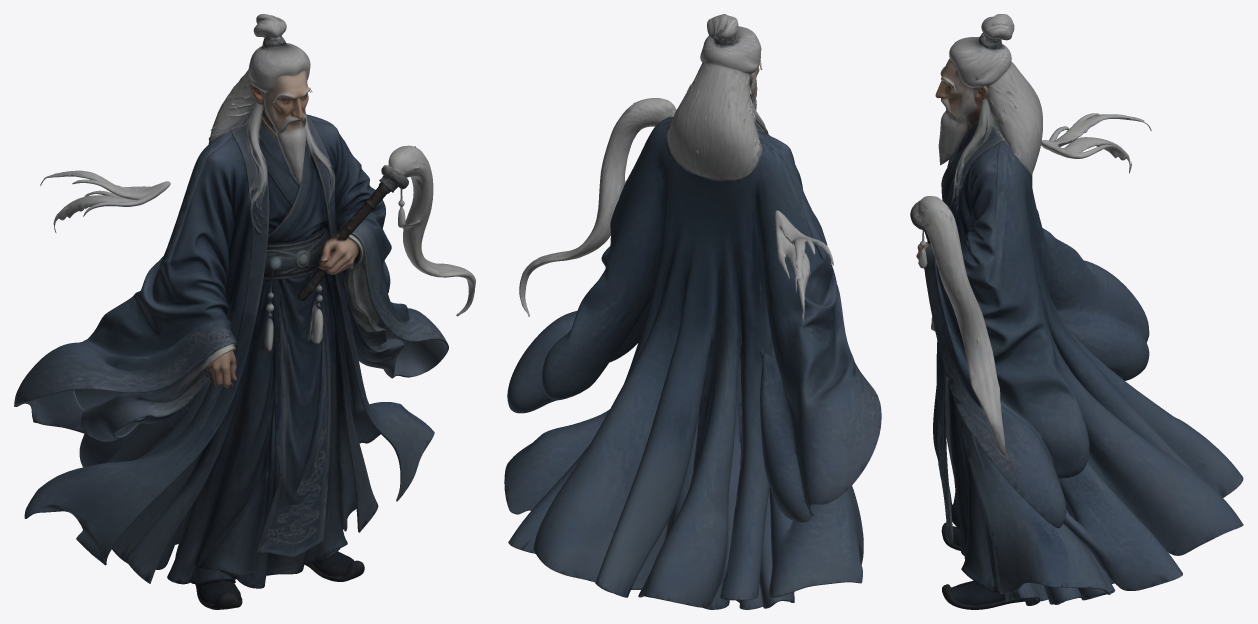
File: zf_web.glb
3 renders of one model, left to right at view 1: azimuth 30°, elevation 25°; view 2: azimuth 150°, elevation 25°; view 3: azimuth 270°, elevation 25°, orthographic.
Parts seen in each view (by area): view 1: node_0; view 2: node_0; view 3: node_0.
Boxes of the visible parts, x1=… form: node_0: x1=14, y1=14, x2=475, y2=609; node_0: x1=504, y1=14, x2=881, y2=609; node_0: x1=910, y1=14, x2=1243, y2=609.
Bounding box in the file's own units: 0.8103 × 1.09 × 0.5863.
1 material, 1 textured.
